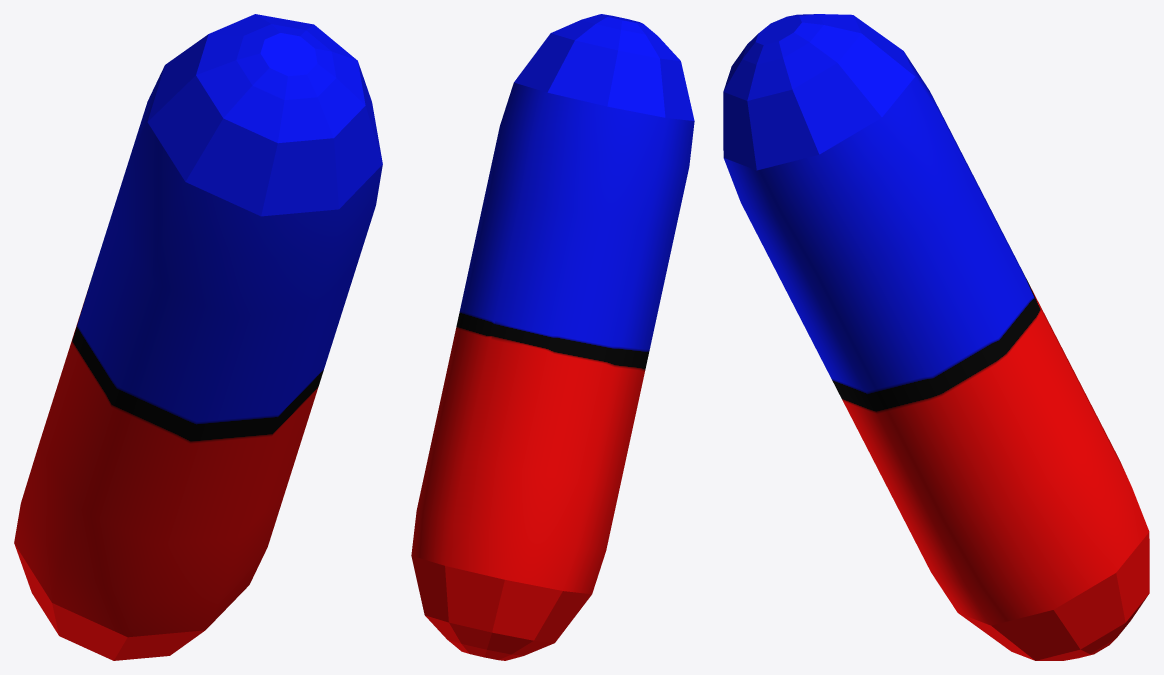
The model's file is Pill.FBX.
The picture shows the model from 3 angles, left to right: view 1: azimuth 30°, elevation 25°; view 2: azimuth 150°, elevation 25°; view 3: azimuth 270°, elevation 25°; orthographic projection. The views are drawn at different scales.
Visible parts, largest first — view 1: Cylinder001; view 2: Cylinder001; view 3: Cylinder001.
Boxes of the visible parts, x1=… form: Cylinder001: x1=14, y1=14, x2=382, y2=660; Cylinder001: x1=411, y1=14, x2=694, y2=660; Cylinder001: x1=723, y1=14, x2=1149, y2=660.
Bounding box in the file's own units: 11.64 × 37.18 × 22.71.
1 material, 1 textured.
